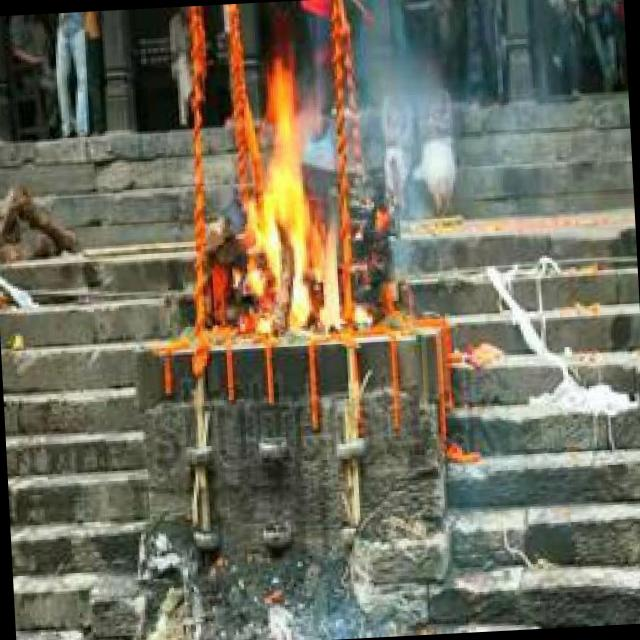fire: (232, 59, 354, 328)
